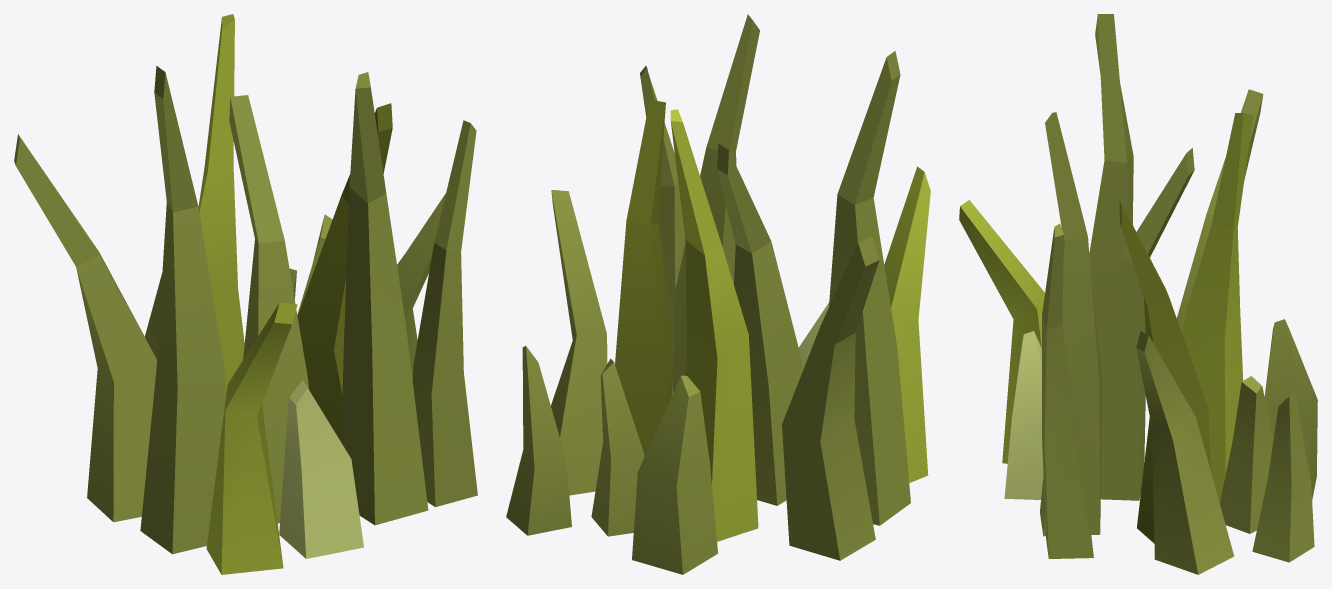
Rendered from Grass_1.fbx.
3 renders of one model, left to right at view 1: azimuth 30°, elevation 25°; view 2: azimuth 150°, elevation 25°; view 3: azimuth 270°, elevation 25°, orthographic. The views are drawn at different scales.
Parts seen in each view (by area): view 1: Grass_1; view 2: Grass_1; view 3: Grass_1.
Boxes of the visible parts, x1,y1,x2,y2 form: Grass_1: (14,14,477,574); Grass_1: (506,14,930,574); Grass_1: (959,14,1317,574).
Size of the model in its own units: 0.0622 by 0.0715 by 0.0552.
